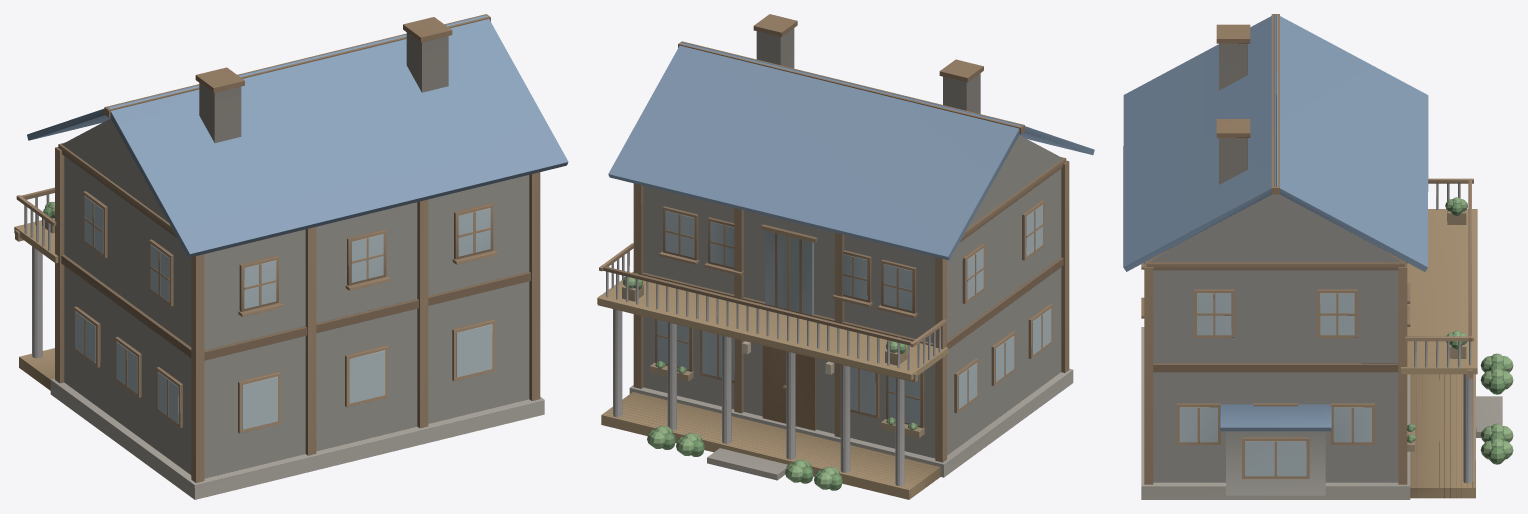
Rendered from home_manor2__blue_low.glb.
3 renders of one model, left to right at view 1: azimuth 30°, elevation 25°; view 2: azimuth 150°, elevation 25°; view 3: azimuth 270°, elevation 25°, orthographic. The views are drawn at different scales.
Size of the model in its own units: 11.05 by 9.84 by 10.14.
